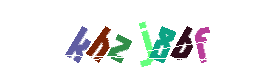8: (106, 0, 186, 80)
B: (143, 0, 223, 80)
F: (144, 0, 224, 80)
H: (61, 0, 141, 80)
J: (106, 0, 186, 80)
K: (40, 0, 120, 80)
Z: (97, 0, 177, 80)
